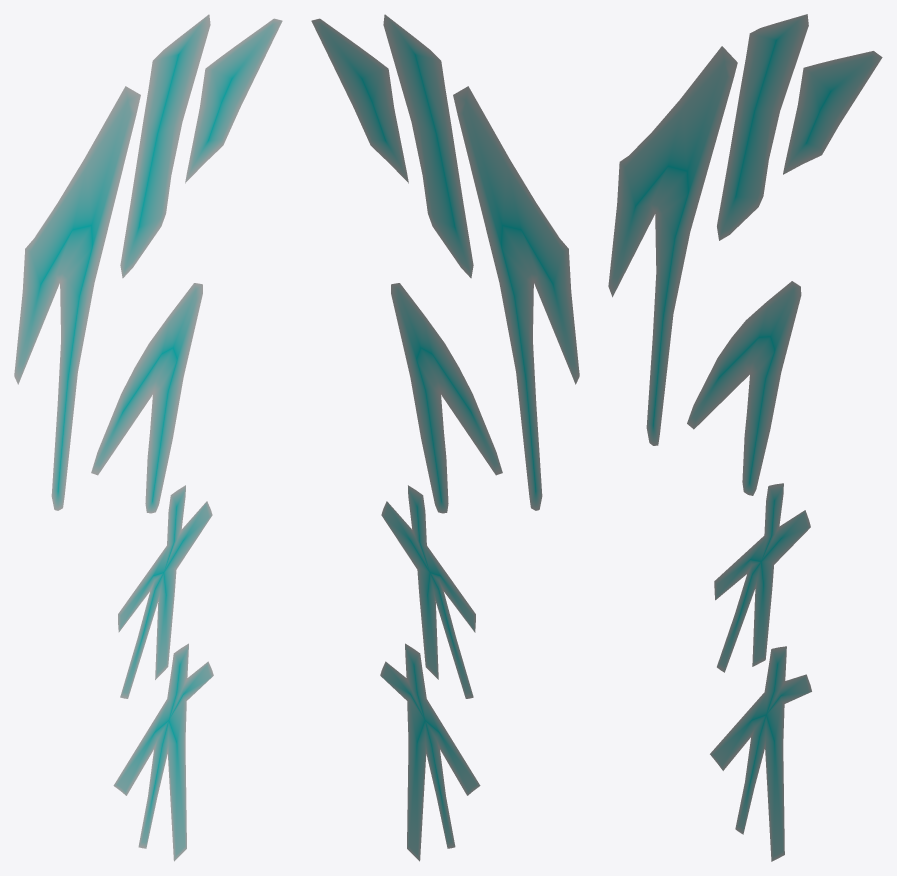
File: SM_EFF_Text_UchihaFlameForm_01.glb
3 renders of one model, left to right at view 1: azimuth 30°, elevation 25°; view 2: azimuth 150°, elevation 25°; view 3: azimuth 330°, elevation 25°, orthographic. The views are drawn at different scales.
Visible parts, largest first — view 1: SM_EFF_Text_UchihaFlameForm_01; view 2: SM_EFF_Text_UchihaFlameForm_01; view 3: SM_EFF_Text_UchihaFlameForm_01.
Part boxes in pixels (x1,y1,x2,y2): SM_EFF_Text_UchihaFlameForm_01: (14, 14, 282, 861); SM_EFF_Text_UchihaFlameForm_01: (311, 14, 579, 861); SM_EFF_Text_UchihaFlameForm_01: (608, 14, 882, 861).
Bounding box in the file's own units: 0.5385 × 1.61 × 0.00039.
